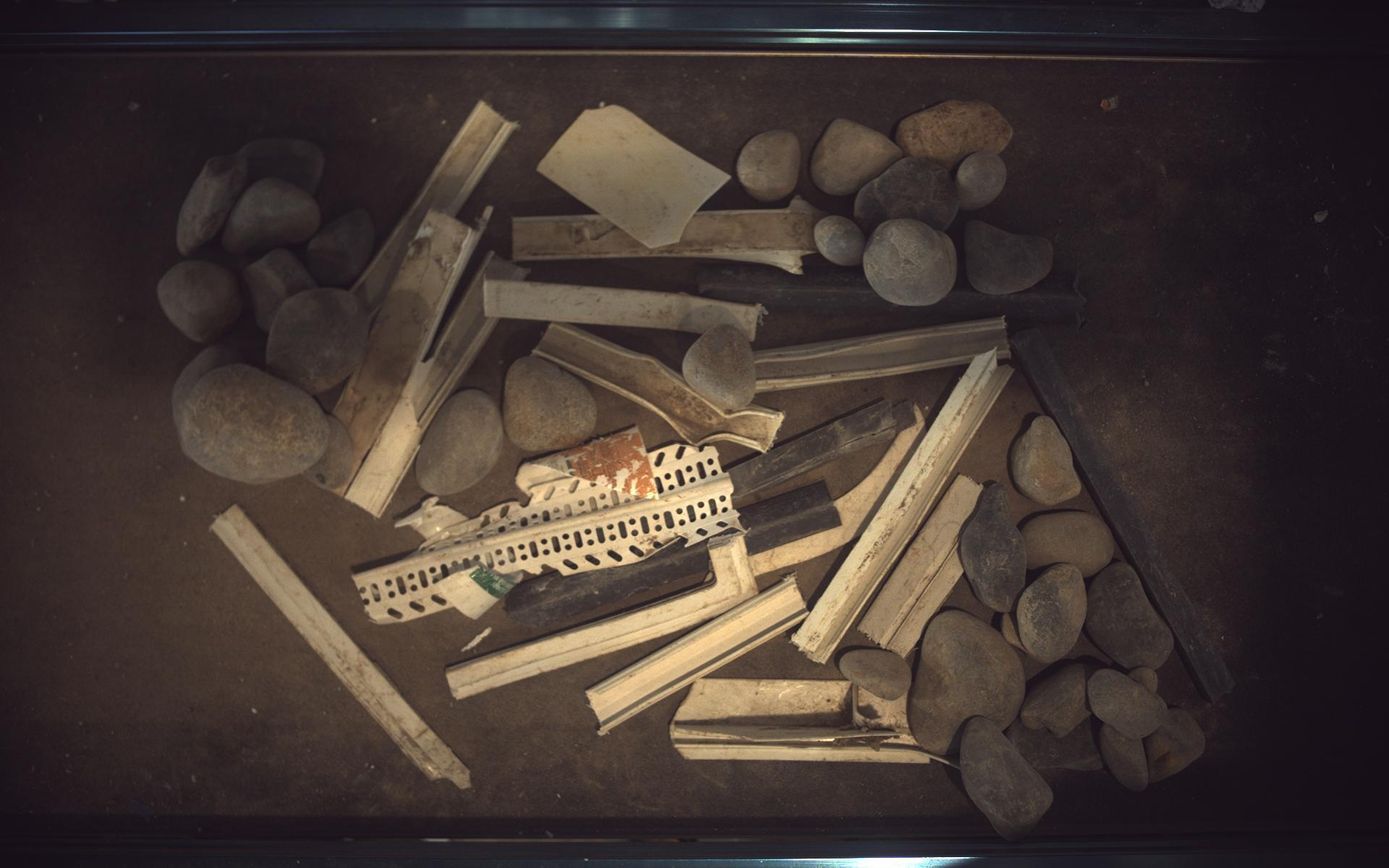plastic: (1014, 328, 1237, 702), (210, 505, 471, 791), (795, 349, 1014, 664), (354, 476, 740, 624), (446, 535, 759, 700), (345, 251, 527, 518), (334, 205, 492, 467), (352, 99, 518, 312), (587, 577, 809, 736), (534, 323, 786, 453), (752, 407, 927, 576), (538, 104, 731, 247), (699, 264, 1088, 326), (513, 197, 823, 273), (671, 679, 933, 766), (859, 475, 984, 647), (755, 317, 1013, 392), (729, 399, 917, 499), (505, 542, 711, 629), (484, 279, 767, 341), (419, 476, 634, 554), (516, 426, 657, 498), (889, 544, 966, 659), (741, 481, 843, 556), (436, 565, 524, 620), (650, 443, 726, 496), (394, 496, 468, 540)
stone: (179, 363, 329, 485), (910, 611, 1027, 757), (962, 718, 1055, 843), (266, 288, 368, 394), (1087, 563, 1176, 671), (416, 388, 504, 496), (504, 357, 598, 452), (961, 484, 1029, 613), (865, 218, 959, 306), (856, 156, 961, 234), (897, 99, 1014, 169), (221, 176, 320, 255), (175, 153, 247, 255), (812, 117, 905, 195), (1019, 563, 1089, 664), (156, 260, 241, 341), (967, 220, 1055, 294), (684, 323, 757, 412), (171, 344, 242, 435), (1013, 415, 1084, 506), (242, 247, 317, 332), (1022, 511, 1117, 577), (1089, 670, 1171, 740), (305, 208, 375, 287), (1022, 665, 1094, 739), (1008, 719, 1105, 773), (238, 137, 324, 195), (738, 129, 802, 201), (1146, 710, 1208, 784), (840, 649, 914, 702), (304, 414, 352, 491), (1102, 725, 1152, 793), (957, 150, 1009, 210), (815, 214, 867, 265), (1003, 613, 1027, 652), (1130, 667, 1162, 695)
